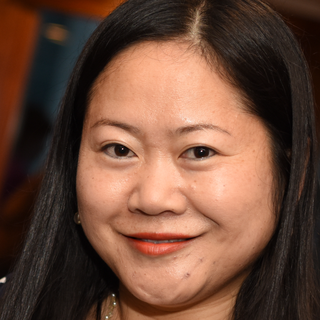eye: (177, 140, 225, 166), (94, 138, 139, 164)
